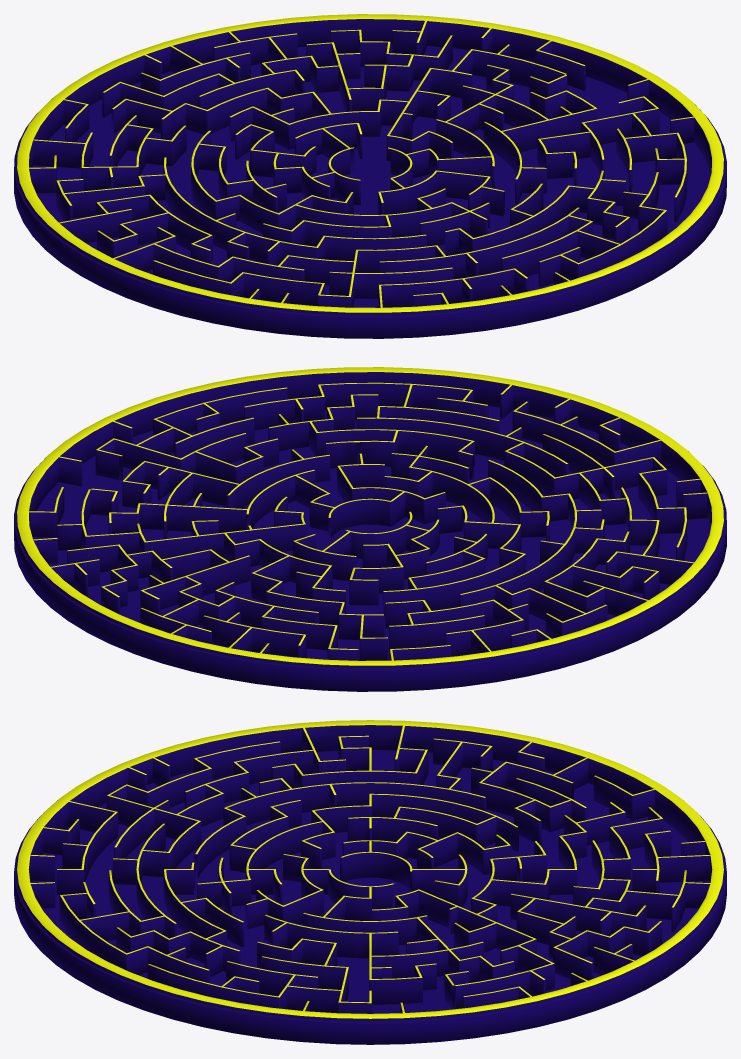
File: labirinto.fbx
3 views of the same model, one above another, from view 1: azimuth 30°, elevation 25°; view 2: azimuth 150°, elevation 25°; view 3: azimuth 270°, elevation 25° (orthographic).
Parts seen in each view (by area): view 1: Walls.001; view 2: Walls.001; view 3: Walls.001.
Boxes of the visible parts, bbox=[...] form: Walls.001: bbox=[14, 14, 726, 338]; Walls.001: bbox=[14, 367, 726, 691]; Walls.001: bbox=[14, 720, 726, 1044].
Size of the model in its own units: 26 by 1.05 by 26.
